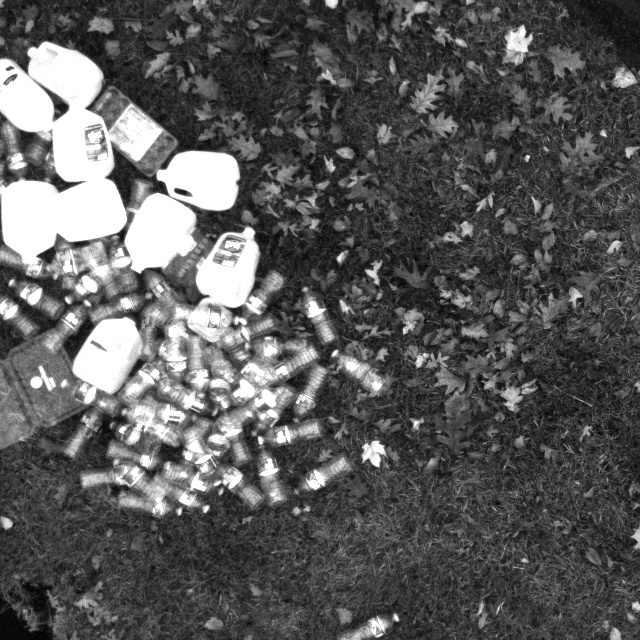bottle: (210, 454, 265, 512), (118, 403, 186, 448), (147, 471, 213, 517), (178, 422, 223, 488), (290, 452, 352, 499), (155, 373, 219, 418), (217, 361, 277, 409), (42, 296, 93, 352), (111, 455, 169, 503), (121, 403, 184, 447), (330, 348, 388, 395), (0, 240, 63, 283), (59, 376, 121, 419), (6, 275, 66, 319), (118, 352, 167, 405), (61, 400, 104, 460), (20, 106, 62, 166), (64, 260, 120, 305), (215, 312, 278, 352), (238, 267, 283, 323), (251, 382, 295, 438), (112, 486, 186, 519), (254, 443, 291, 509), (46, 240, 107, 280), (263, 345, 321, 387), (291, 360, 330, 422), (300, 284, 339, 345), (161, 459, 225, 496), (101, 435, 165, 471), (83, 241, 122, 300), (87, 290, 153, 324), (139, 264, 183, 315), (216, 404, 252, 466), (255, 415, 322, 448), (106, 231, 140, 295), (106, 415, 161, 454), (78, 462, 146, 491), (120, 177, 155, 232), (171, 301, 241, 328), (186, 332, 210, 399), (205, 409, 237, 459), (243, 333, 310, 356), (139, 298, 163, 360), (217, 325, 252, 366), (165, 319, 187, 383), (39, 139, 64, 185)
can: (122, 190, 198, 273), (195, 225, 261, 309), (72, 317, 143, 394), (154, 150, 239, 212), (26, 39, 104, 106), (0, 181, 58, 264), (52, 104, 112, 182), (55, 179, 128, 242), (0, 57, 55, 133)
container: (0, 327, 90, 459), (84, 82, 180, 179), (163, 230, 217, 298), (188, 297, 234, 341)
